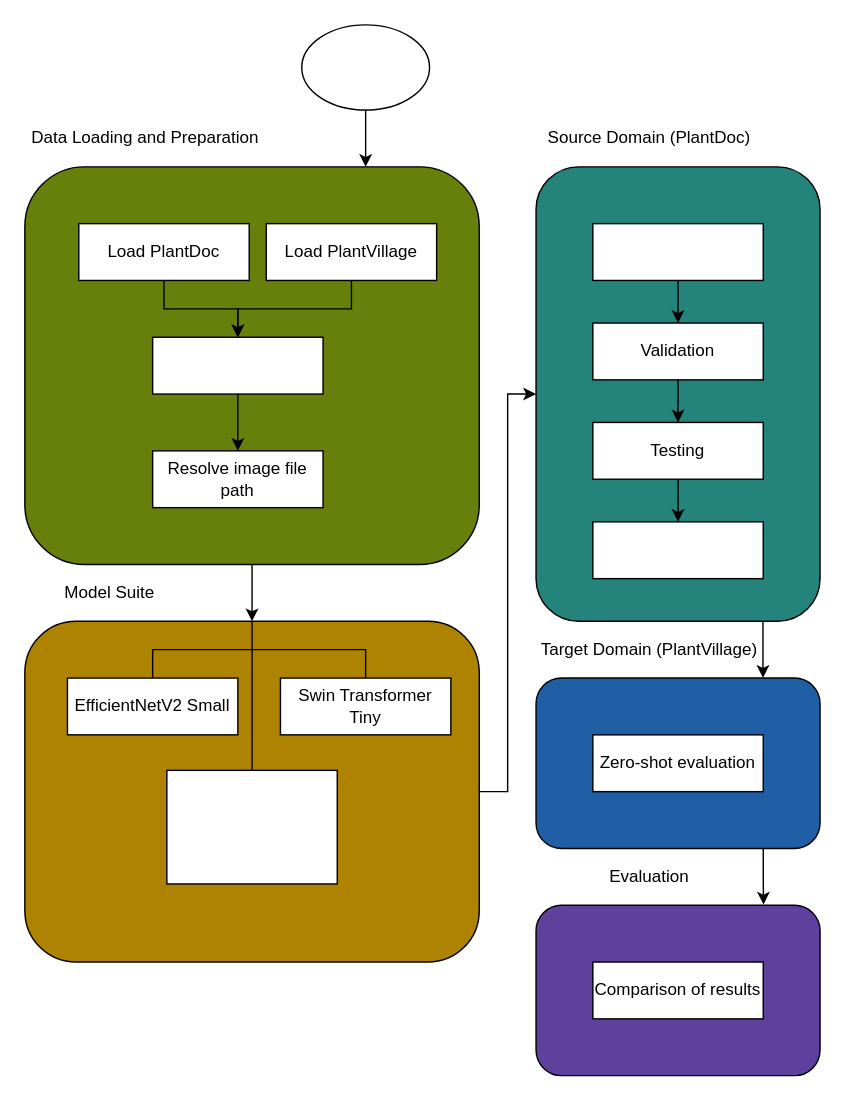
The diagram is 845 pixels wide and 1101 high, and some of its shapes have lost their labels. The centre of each missing label's shape, as x and y in pixels:
"Best Model" belongs at (677,549).
"EfficientNetV2 Small and Swin Transformer Tiny Hybrid" belongs at (251,826).
"Preprocessing and data augmentations" belongs at (237,365).
"Start" belongs at (365,66).
"Training" belongs at (677,251).
